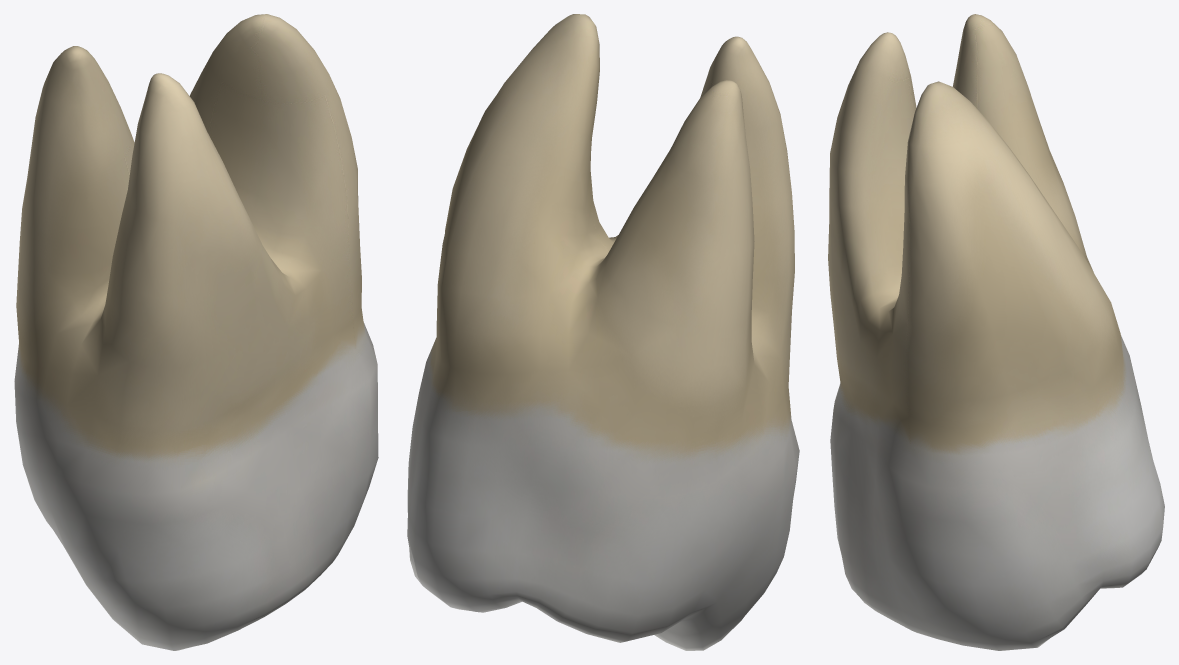
File: tooth-17.glb
The picture shows the model from 3 angles, left to right: view 1: azimuth 30°, elevation 25°; view 2: azimuth 150°, elevation 25°; view 3: azimuth 270°, elevation 25°; orthographic projection. The views are drawn at different scales.
Visible parts, largest first — view 1: polySurface10_blinn19_0; view 2: polySurface10_blinn19_0; view 3: polySurface10_blinn19_0.
Part boxes in pixels (bbox=[...]): polySurface10_blinn19_0: bbox=[14, 14, 378, 650]; polySurface10_blinn19_0: bbox=[407, 14, 799, 650]; polySurface10_blinn19_0: bbox=[828, 14, 1164, 650].
Size of the model in its own units: 0.3311 by 0.569 by 0.3069.
Materials: 1 (1 with a texture image).
